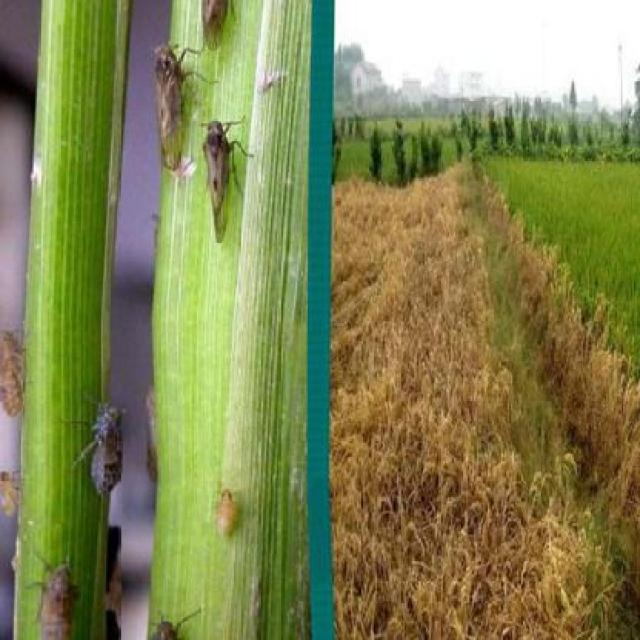brown-planthopper: (142, 37, 192, 168), (198, 120, 248, 242), (83, 398, 125, 498), (36, 557, 78, 640), (0, 323, 32, 420), (198, 0, 234, 48), (212, 484, 240, 534), (1, 467, 22, 521), (151, 609, 186, 640)
